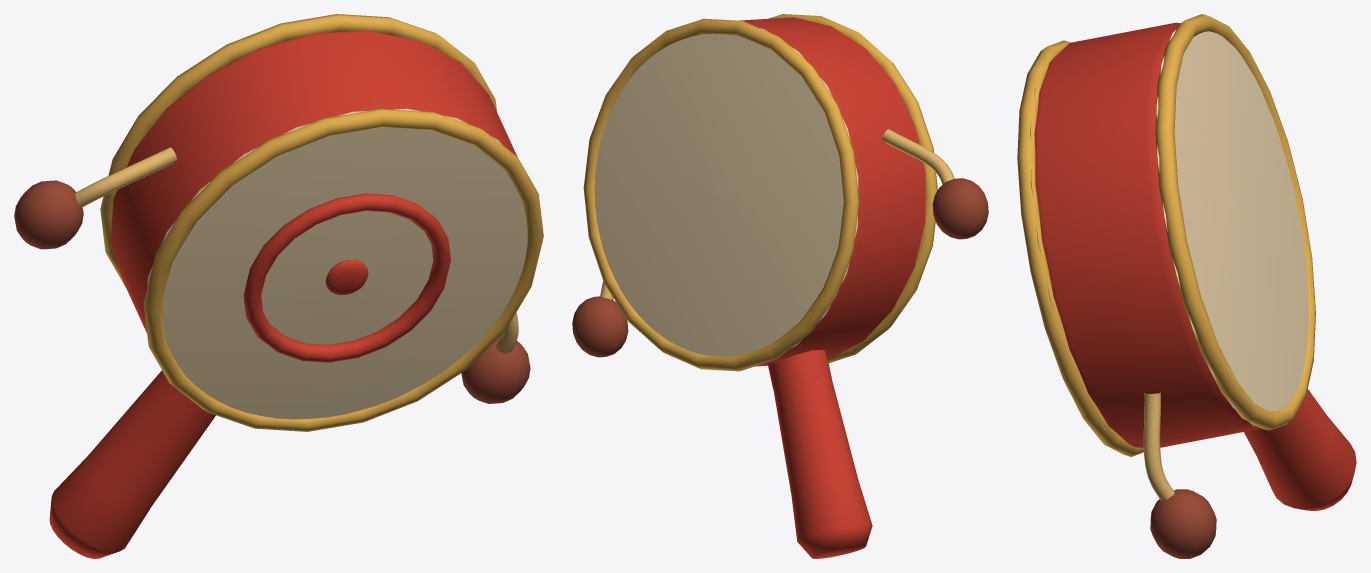
File: pellet-drum.glb
3 views of the same model, side by side, from view 1: azimuth 30°, elevation 25°; view 2: azimuth 150°, elevation 25°; view 3: azimuth 270°, elevation 25° (orthographic). The views are drawn at different scales.
Visible parts, largest first — view 1: pellet-drum; view 2: pellet-drum; view 3: pellet-drum.
Boxes of the visible parts, x1=… form: pellet-drum: x1=14, y1=14, x2=543, y2=558; pellet-drum: x1=572, y1=14, x2=988, y2=558; pellet-drum: x1=1017, y1=14, x2=1356, y2=558.
Size of the model in its own units: 0.8147 by 0.8569 by 0.4788.
